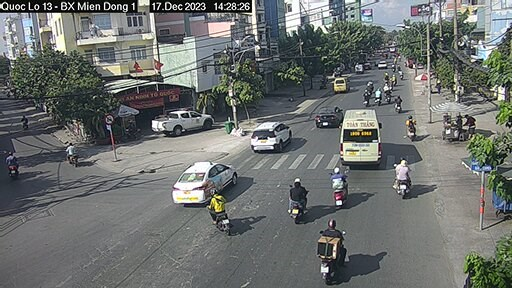car: (172, 159, 239, 206), (339, 106, 384, 167), (151, 107, 216, 138), (251, 118, 294, 156), (316, 104, 342, 128), (333, 77, 351, 101), (375, 58, 388, 70), (356, 62, 363, 76)
motorbike: (316, 226, 348, 276), (279, 183, 308, 221), (208, 191, 230, 230), (330, 170, 348, 206), (396, 164, 412, 201), (405, 116, 421, 139), (395, 95, 408, 115)
